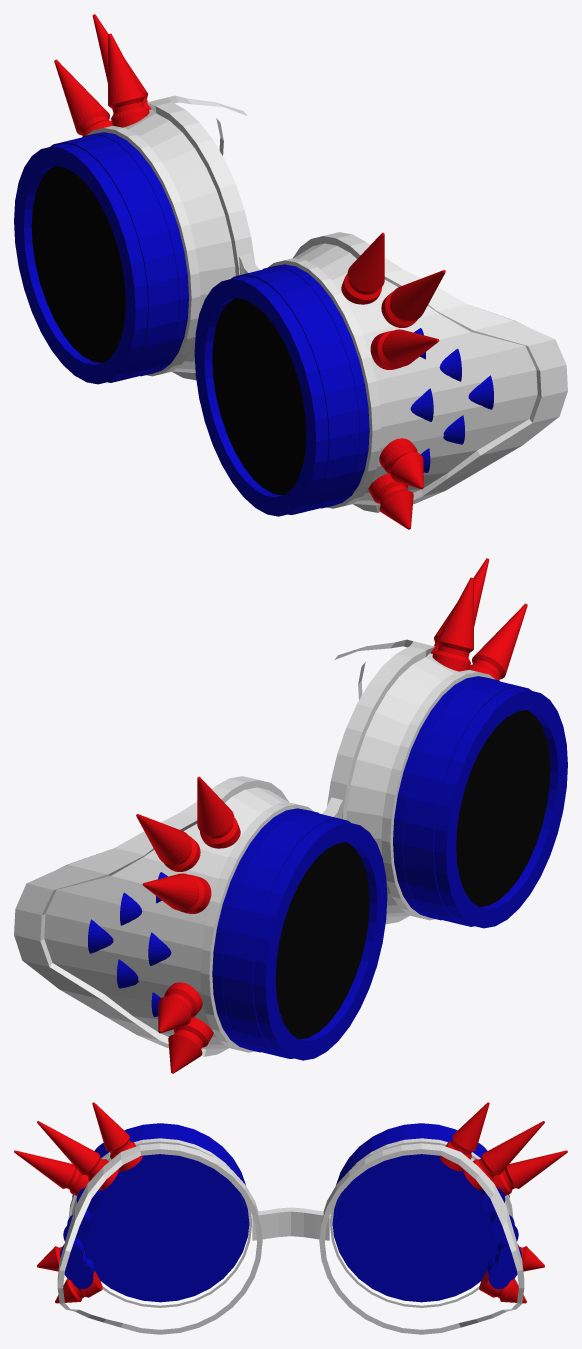
The model's file is steampunk_glasses_pikes.glb.
3 views of the same model, one above another, from view 1: azimuth 30°, elevation 25°; view 2: azimuth 150°, elevation 25°; view 3: azimuth 270°, elevation 25° (orthographic). The views are drawn at different scales.
Parts seen in each view (by area): view 1: lenses, armor, pikes, side-details; view 2: lenses, armor, pikes, side-details; view 3: lenses, armor, pikes, side-details, Cube.
Part boxes in pixels (left/top/right/bottom): lenses: left=14, top=132, right=369, bottom=516; armor: left=86, top=95, right=567, bottom=512; pikes: left=54, top=14, right=445, bottom=529; side-details: left=410, top=328, right=493, bottom=472; lenses: left=212, top=676, right=567, bottom=1060; armor: left=14, top=639, right=495, bottom=1056; pikes: left=136, top=558, right=527, bottom=1073; side-details: left=88, top=872, right=171, bottom=1016; lenses: left=72, top=1123, right=509, bottom=1302; armor: left=57, top=1138, right=524, bottom=1334; pikes: left=14, top=1102, right=567, bottom=1303; side-details: left=60, top=1187, right=521, bottom=1289; Cube: left=252, top=1207, right=329, bottom=1240.
Bounding box in the file's own units: 7.32 × 8.88 × 20.1.
